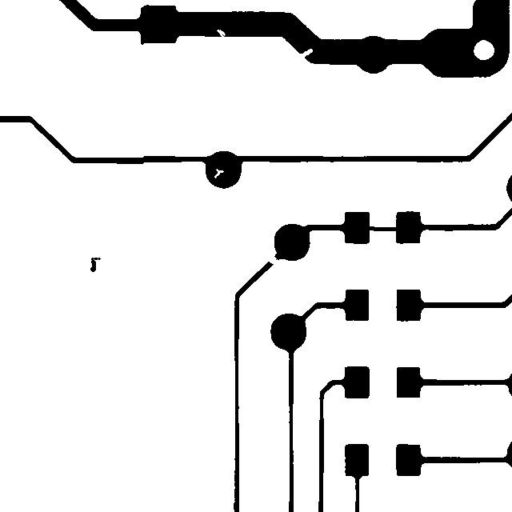copper: (82, 250, 108, 279)
mousebite: (290, 41, 320, 65), (209, 22, 233, 46)
open: (261, 248, 286, 271)
pin-hole: (206, 161, 231, 186)
short: (357, 218, 404, 238)
